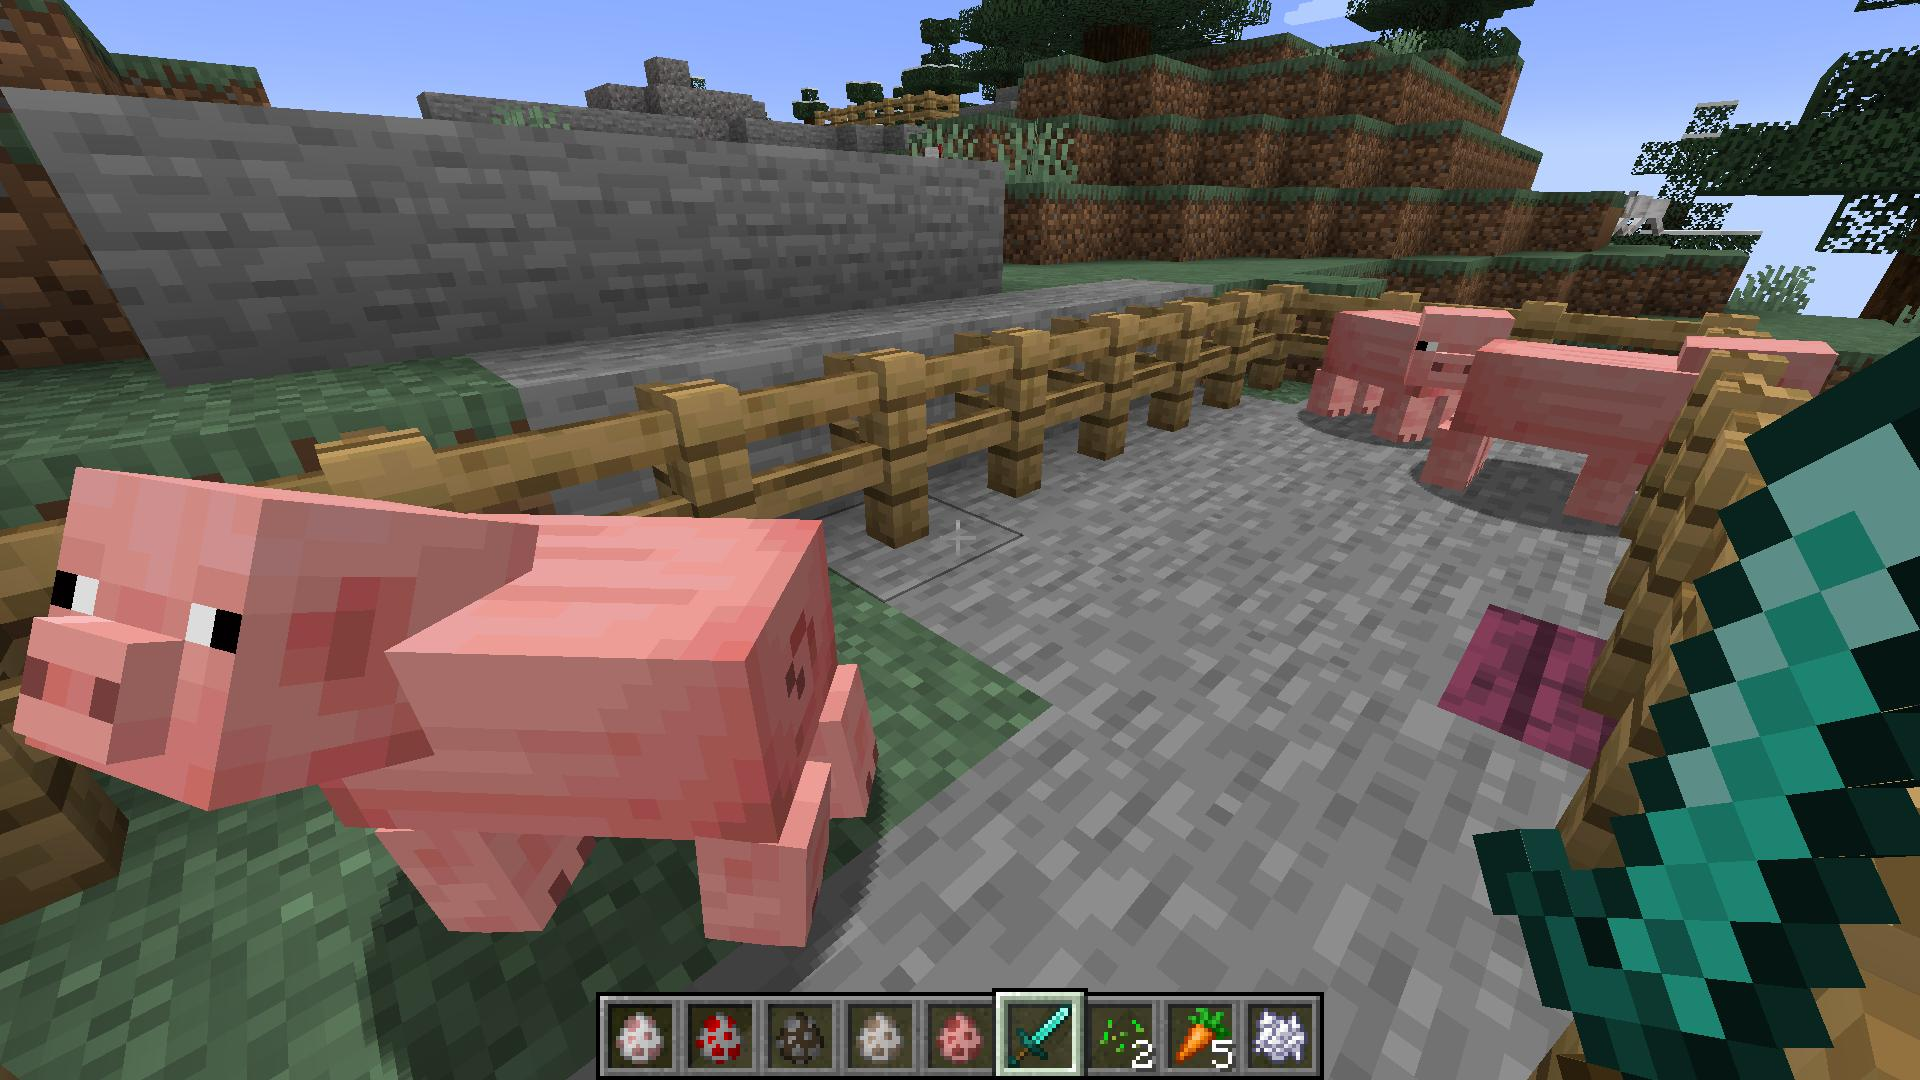pig: (4, 459, 882, 952), (1305, 290, 1520, 447)
